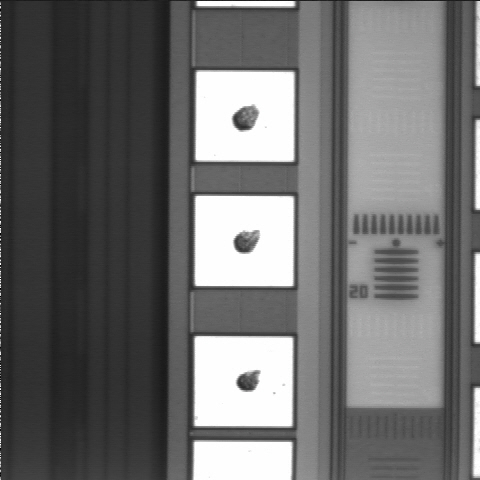pad: (196, 71, 294, 162), (195, 196, 294, 286), (194, 336, 293, 426)
